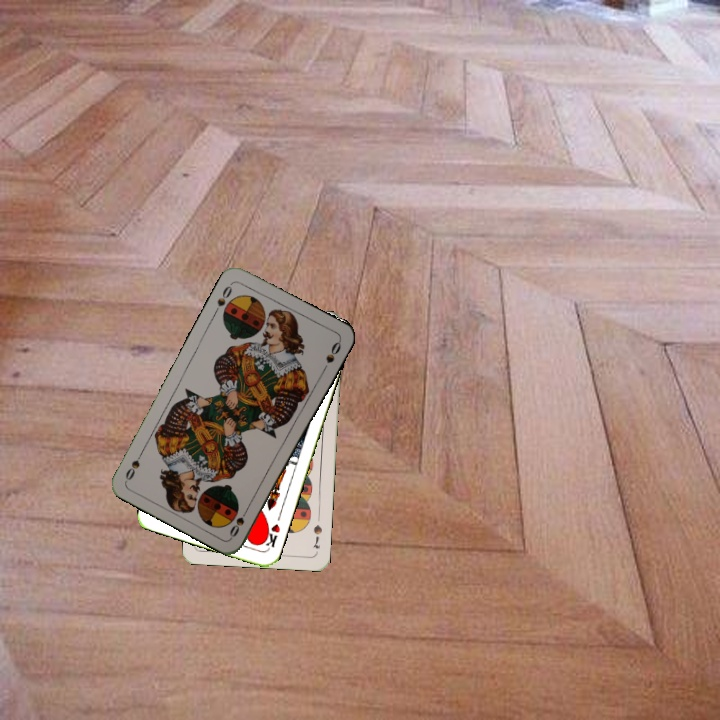HK: (258, 520, 283, 552)
S7: (308, 521, 325, 551)
SO: (226, 502, 252, 540), (210, 279, 235, 317)
